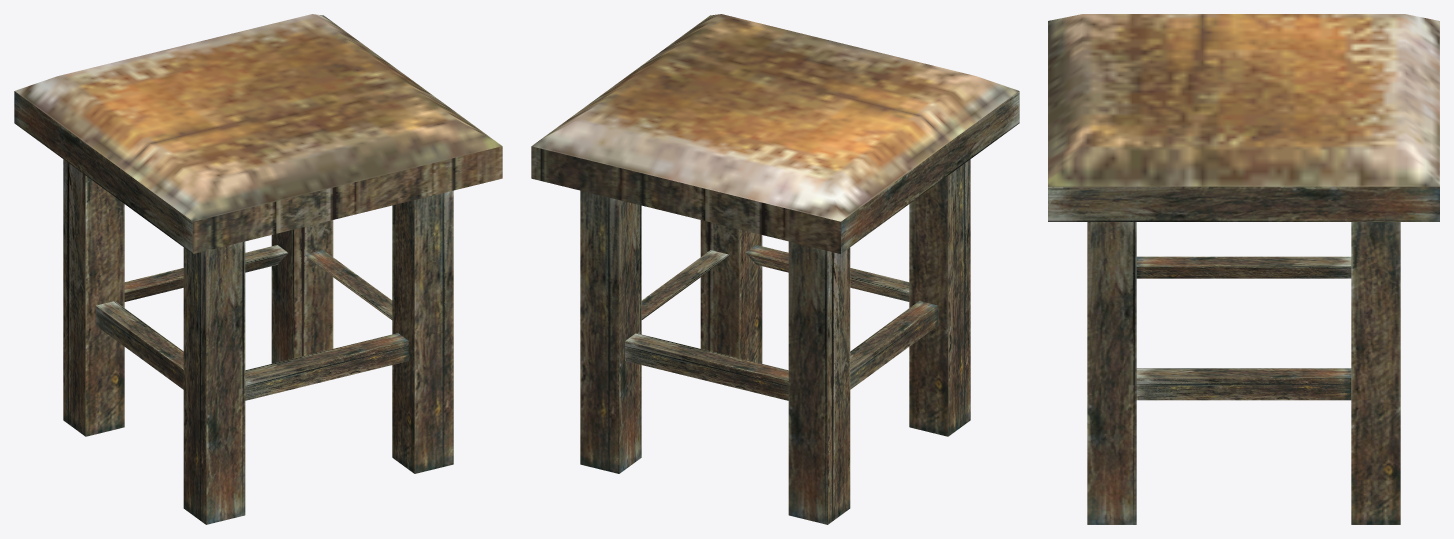
Rendered from chair5.glb.
The picture shows the model from 3 angles, left to right: view 1: azimuth 30°, elevation 25°; view 2: azimuth 150°, elevation 25°; view 3: azimuth 270°, elevation 25°; orthographic projection. The views are drawn at different scales.
Parts seen in each view (by area): view 1: chair5; view 2: chair5; view 3: chair5.
Part boxes in pixels (<box>): chair5: <box>14,14,502,524</box>; chair5: <box>531,14,1019,524</box>; chair5: <box>1048,14,1439,524</box>.
Bounding box in the file's own units: 0.5 × 0.5303 × 0.5.
2 materials, 2 textured.
